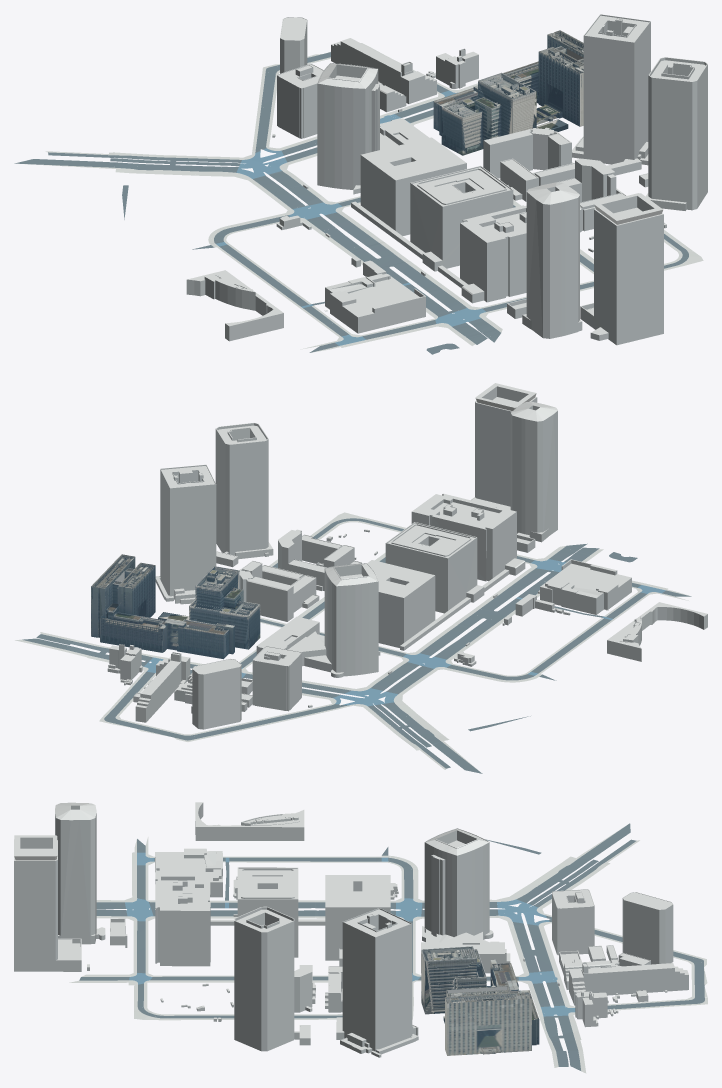
Rendered from toyosu-city-2023.glb.
3 views of the same model, one above another, from view 1: azimuth 30°, elevation 25°; view 2: azimuth 150°, elevation 25°; view 3: azimuth 270°, elevation 25° (orthographic). The views are drawn at different scales.
Parts seen in each view (by area): view 1: bldg_08828588-a1e2-4d63-835c-9a5326b56117, bldg_e72928c5-8c5d-41fb-b42d-3511244cd988, bldg_fecb71ec-7f7b-4233-b100-01f4569a1764, bldg_92fb5abd-4ef1-4558-b6d0-5ad68a5c3249, bldg_92d5bf30-c925-49a1-aaeb-826b276014b9, bldg_ce65d6d3-5100-4a7c-8dcd-7bcd15412be5, bldg_86a19027-5af5-4193-9827-41e6737dc5a7, bldg_0fcb8416-2aac-4a24-a8d4-5727a754de60, bldg_20ea8bed-a9d4-4f54-8c4f-f97573acde57, bldg_5ae245c9-b909-4456-9d2f-84ac3727087e, bldg_f5e6f3a8-7cd0-4c0b-99dc-17d644ce2f89, bldg_8bd8ccec-0eb3-4067-aa5e-d525566820e8 (+27 smaller); view 2: bldg_92d5bf30-c925-49a1-aaeb-826b276014b9, bldg_fecb71ec-7f7b-4233-b100-01f4569a1764, bldg_e72928c5-8c5d-41fb-b42d-3511244cd988, bldg_92fb5abd-4ef1-4558-b6d0-5ad68a5c3249, bldg_f5e6f3a8-7cd0-4c0b-99dc-17d644ce2f89, bldg_ce65d6d3-5100-4a7c-8dcd-7bcd15412be5, bldg_08828588-a1e2-4d63-835c-9a5326b56117, bldg_0fcb8416-2aac-4a24-a8d4-5727a754de60, bldg_86a19027-5af5-4193-9827-41e6737dc5a7, bldg_20ea8bed-a9d4-4f54-8c4f-f97573acde57, bldg_5ae245c9-b909-4456-9d2f-84ac3727087e, bldg_8006e0fd-afa2-4b75-a0af-b3fd2deb518e (+18 smaller); view 3: bldg_e72928c5-8c5d-41fb-b42d-3511244cd988, bldg_fecb71ec-7f7b-4233-b100-01f4569a1764, bldg_92d5bf30-c925-49a1-aaeb-826b276014b9, bldg_08828588-a1e2-4d63-835c-9a5326b56117, bldg_f5e6f3a8-7cd0-4c0b-99dc-17d644ce2f89, bldg_92fb5abd-4ef1-4558-b6d0-5ad68a5c3249, bldg_0fcb8416-2aac-4a24-a8d4-5727a754de60, bldg_86a19027-5af5-4193-9827-41e6737dc5a7, bldg_8006e0fd-afa2-4b75-a0af-b3fd2deb518e, bldg_20ea8bed-a9d4-4f54-8c4f-f97573acde57, bldg_ce65d6d3-5100-4a7c-8dcd-7bcd15412be5, bldg_272d266e-8724-47c8-ade8-180b2fcf3a71 (+30 smaller).
Part boxes in pixels (box(x1,y1,x2,y2)): bldg_08828588-a1e2-4d63-835c-9a5326b56117: box(580, 193, 663, 345); bldg_e72928c5-8c5d-41fb-b42d-3511244cd988: box(572, 14, 650, 164); bldg_fecb71ec-7f7b-4233-b100-01f4569a1764: box(645, 57, 707, 210); bldg_92fb5abd-4ef1-4558-b6d0-5ad68a5c3249: box(526, 182, 579, 338); bldg_92d5bf30-c925-49a1-aaeb-826b276014b9: box(317, 63, 429, 189); bldg_ce65d6d3-5100-4a7c-8dcd-7bcd15412be5: box(410, 165, 513, 271); bldg_86a19027-5af5-4193-9827-41e6737dc5a7: box(360, 137, 466, 235); bldg_0fcb8416-2aac-4a24-a8d4-5727a754de60: box(460, 205, 526, 302); bldg_20ea8bed-a9d4-4f54-8c4f-f97573acde57: box(441, 72, 536, 155); bldg_5ae245c9-b909-4456-9d2f-84ac3727087e: box(325, 273, 425, 333); bldg_f5e6f3a8-7cd0-4c0b-99dc-17d644ce2f89: box(503, 30, 583, 126); bldg_8bd8ccec-0eb3-4067-aa5e-d525566820e8: box(483, 127, 571, 178); bldg_92d5bf30-c925-49a1-aaeb-826b276014b9: box(256, 563, 378, 676); bldg_fecb71ec-7f7b-4233-b100-01f4569a1764: box(215, 423, 273, 559); bldg_e72928c5-8c5d-41fb-b42d-3511244cd988: box(160, 464, 216, 604); bldg_92fb5abd-4ef1-4558-b6d0-5ad68a5c3249: box(510, 401, 557, 535); bldg_f5e6f3a8-7cd0-4c0b-99dc-17d644ce2f89: box(91, 554, 166, 652); bldg_ce65d6d3-5100-4a7c-8dcd-7bcd15412be5: box(385, 522, 484, 613); bldg_08828588-a1e2-4d63-835c-9a5326b56117: box(470, 383, 537, 509); bldg_0fcb8416-2aac-4a24-a8d4-5727a754de60: box(411, 493, 516, 581); bldg_86a19027-5af5-4193-9827-41e6737dc5a7: box(367, 560, 435, 647); bldg_20ea8bed-a9d4-4f54-8c4f-f97573acde57: box(189, 566, 260, 649); bldg_5ae245c9-b909-4456-9d2f-84ac3727087e: box(540, 559, 631, 614); bldg_8006e0fd-afa2-4b75-a0af-b3fd2deb518e: box(192, 658, 241, 729); bldg_e72928c5-8c5d-41fb-b42d-3511244cd988: box(342, 908, 418, 1051); bldg_fecb71ec-7f7b-4233-b100-01f4569a1764: box(234, 906, 294, 1051); bldg_92d5bf30-c925-49a1-aaeb-826b276014b9: box(421, 828, 506, 973); bldg_08828588-a1e2-4d63-835c-9a5326b56117: box(14, 835, 81, 971); bldg_f5e6f3a8-7cd0-4c0b-99dc-17d644ce2f89: box(445, 986, 539, 1055); bldg_92fb5abd-4ef1-4558-b6d0-5ad68a5c3249: box(55, 802, 96, 944); bldg_0fcb8416-2aac-4a24-a8d4-5727a754de60: box(155, 870, 210, 966); bldg_86a19027-5af5-4193-9827-41e6737dc5a7: box(325, 875, 390, 960); bldg_8006e0fd-afa2-4b75-a0af-b3fd2deb518e: box(622, 892, 673, 964); bldg_20ea8bed-a9d4-4f54-8c4f-f97573acde57: box(421, 946, 486, 1014); bldg_ce65d6d3-5100-4a7c-8dcd-7bcd15412be5: box(237, 867, 298, 957); bldg_272d266e-8724-47c8-ade8-180b2fcf3a71: box(582, 962, 688, 995).
Bounding box in the file's own units: 712 × 169 × 809.
30 materials, 25 textured.
